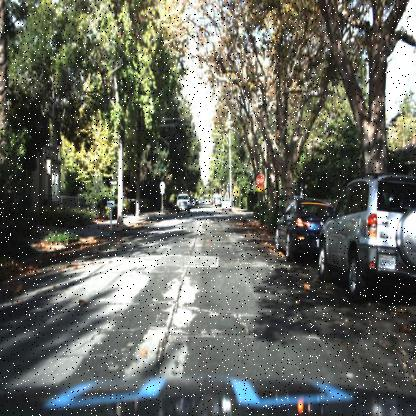car: (317, 167, 414, 299), (272, 196, 334, 260), (175, 191, 191, 214), (220, 196, 234, 214), (220, 196, 232, 214)
